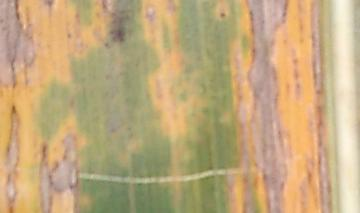tarspot: (104, 21, 132, 46), (218, 11, 228, 18), (65, 33, 72, 39)
